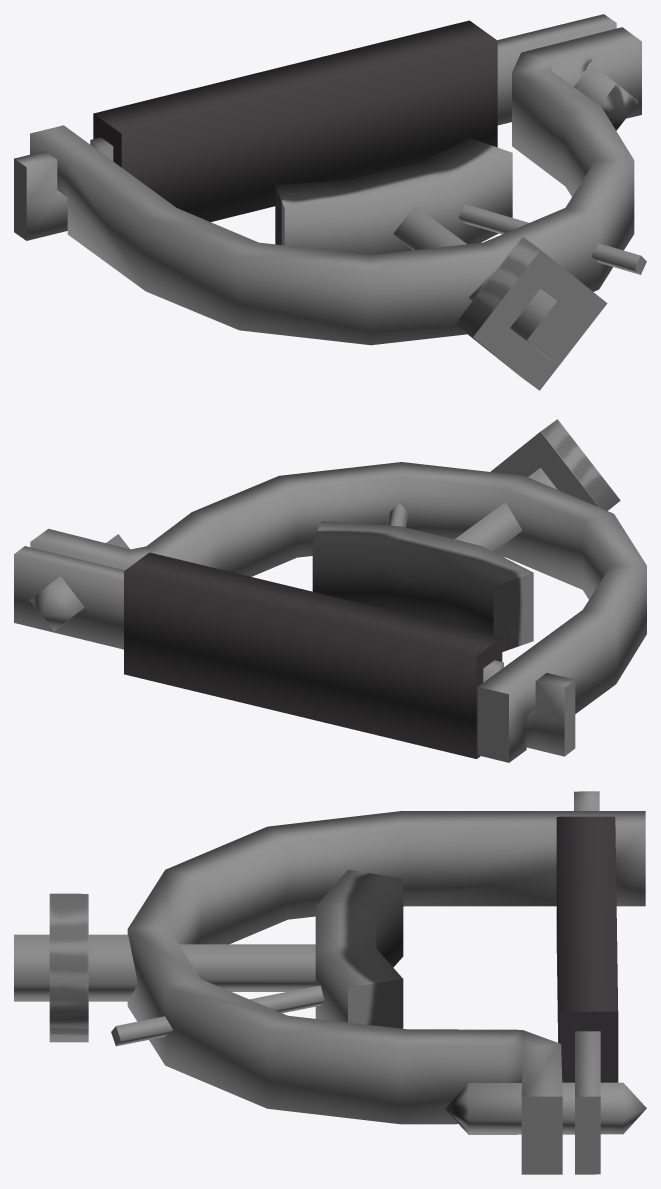
Rendered from obj_Capo.fbx.
3 views of the same model, one above another, from view 1: azimuth 30°, elevation 25°; view 2: azimuth 150°, elevation 25°; view 3: azimuth 270°, elevation 25° (orthographic). The views are drawn at different scales.
Parts seen in each view (by area): view 1: obj_Capo; view 2: obj_Capo; view 3: obj_Capo.
Boxes of the visible parts, x1=… form: obj_Capo: x1=14, y1=14, x2=646, y2=390; obj_Capo: x1=14, y1=419, x2=646, y2=762; obj_Capo: x1=14, y1=791, x2=646, y2=1174.
Size of the model in its own units: 0.1569 by 0.0357 by 0.1374.
1 material, 1 textured.
